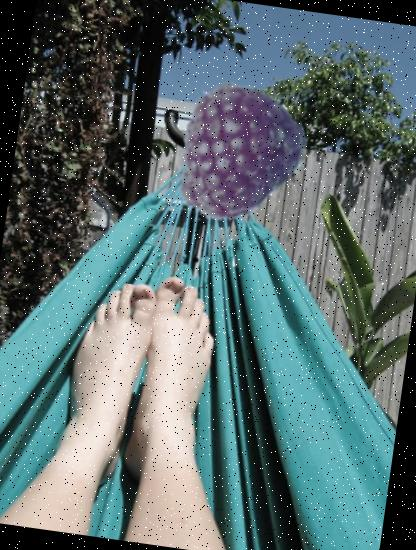Raspberry: (152, 72, 310, 229)
